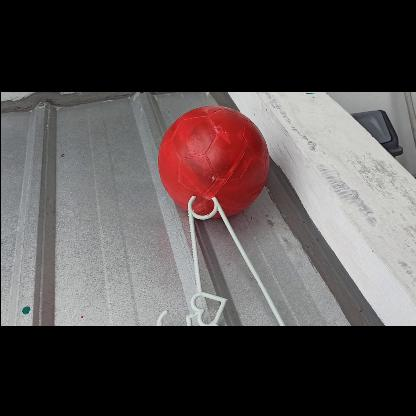red_ball: (155, 105, 266, 216)
